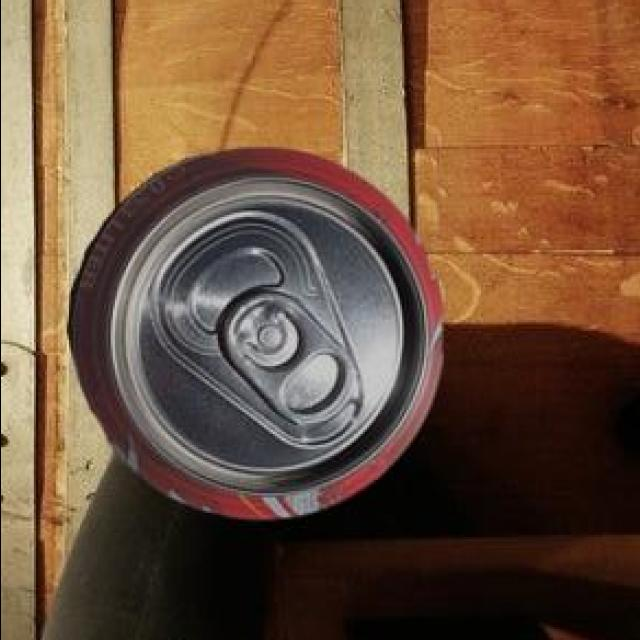logam: (62, 152, 437, 523)
